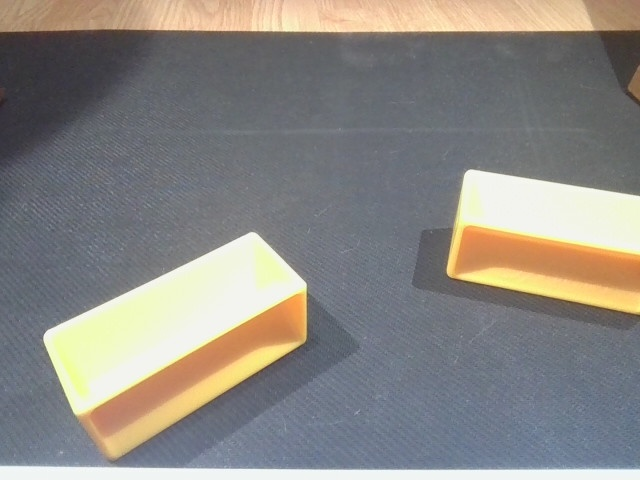YellowSample: (39, 228, 314, 466), (443, 166, 640, 315)
